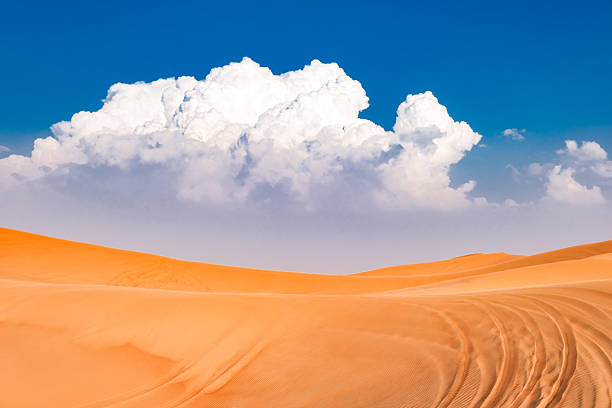vehicle_track: (519, 294, 577, 407), (491, 295, 546, 407), (419, 304, 472, 407), (470, 296, 515, 407)
